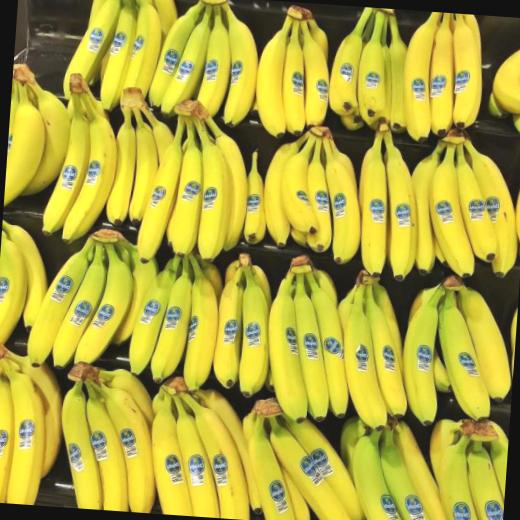Banana: (0, 0, 520, 520), (260, 270, 320, 426)
